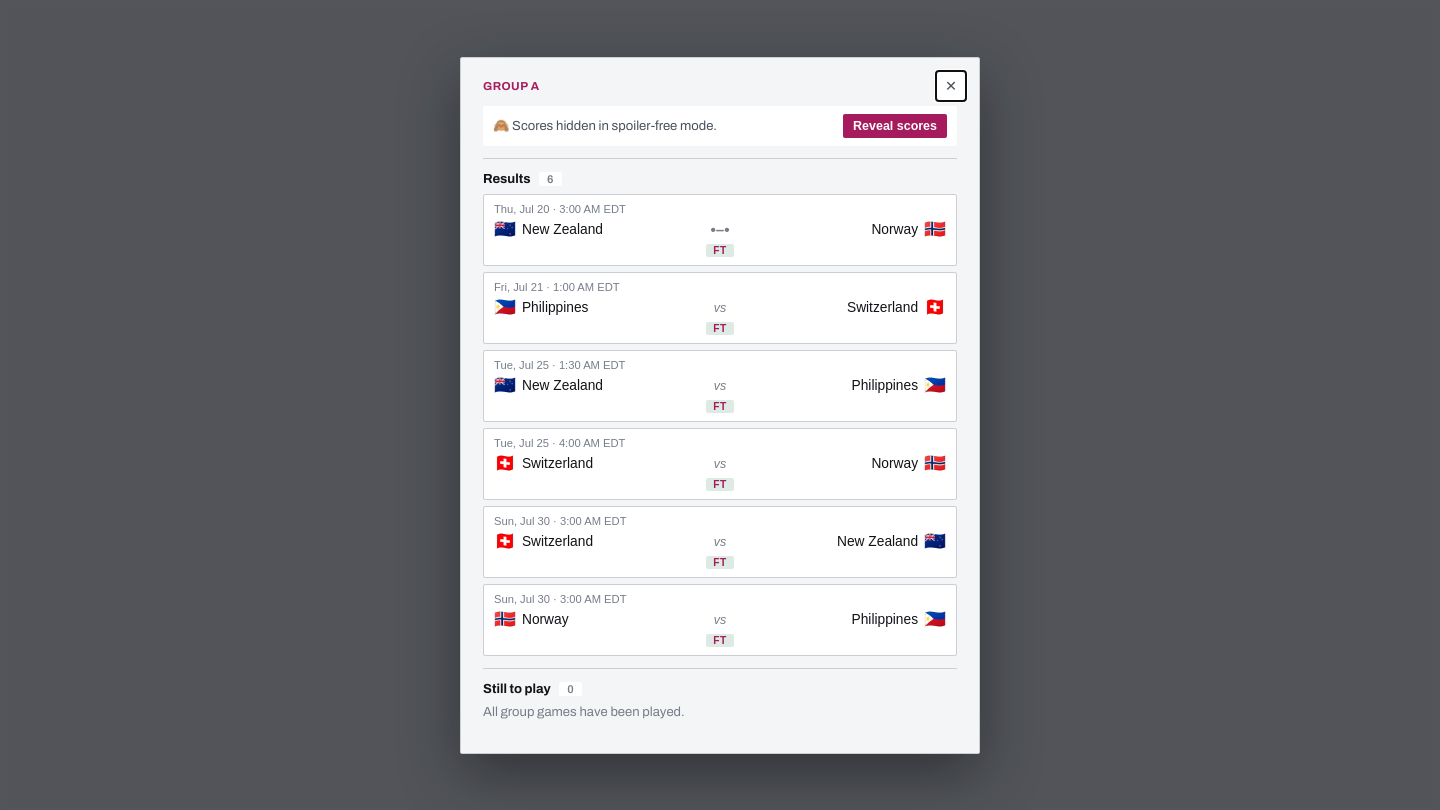
Test case: GroupGamesModal (coverage) › hides scores in spoiler-free mode and reveals them on click
Check: the text "🙈 Scores hidden in spoiler-free mode." is shown, box [493,118,717,133]
Check: the text "•–•" is shown, box [710,220,730,238]
Click the button "Reveal scores" at (895, 126), box [843,114,947,138]
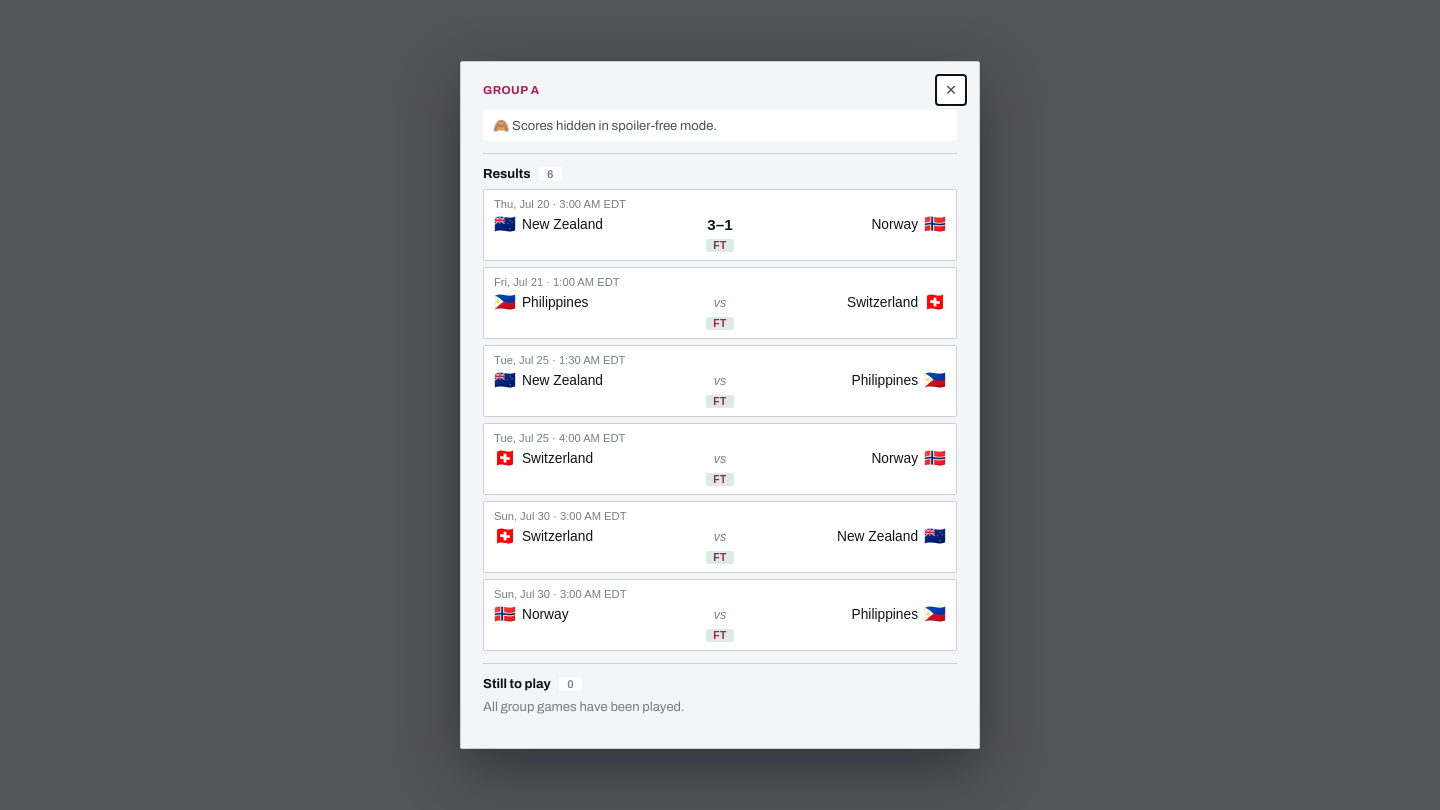
Check: the text "3–1" is shown, box [707,216,733,233]
Check: the button "Reveal scores" is gone
